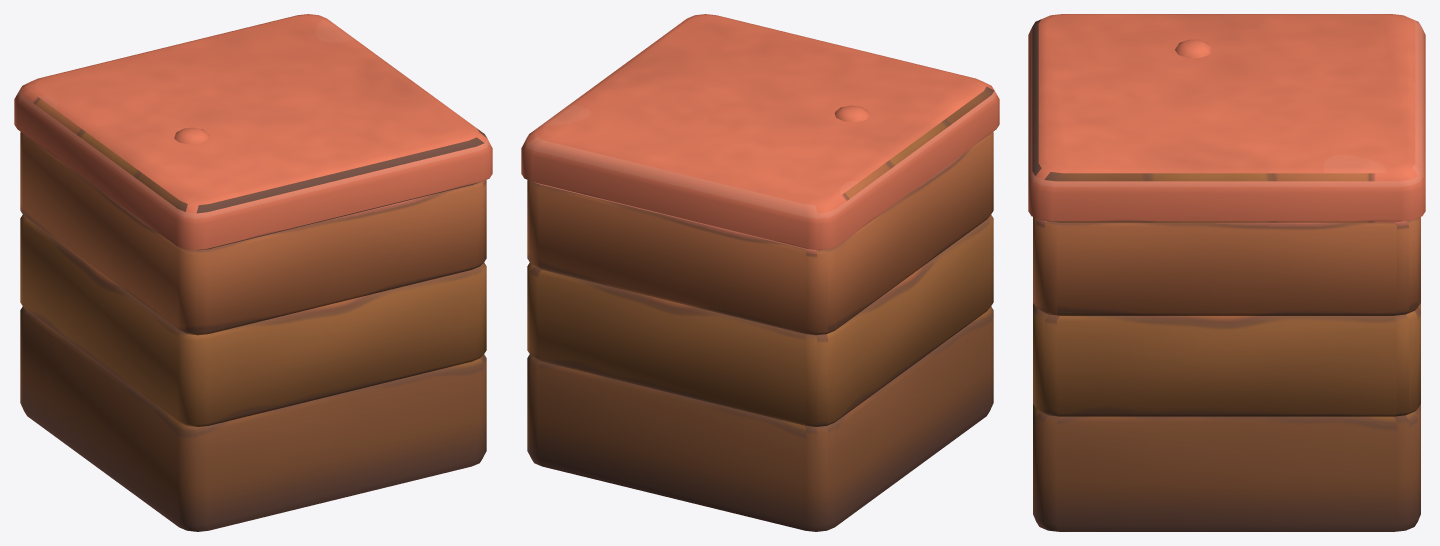
Rendered from cover_unit.glb.
3 views of the same model, side by side, from view 1: azimuth 30°, elevation 25°; view 2: azimuth 150°, elevation 25°; view 3: azimuth 270°, elevation 25° (orthographic). The views are drawn at different scales.
Visible parts, largest first — view 1: cover_unit; view 2: cover_unit; view 3: cover_unit.
Boxes of the visible parts, x1,y1,x2,y2 form: cover_unit: [14, 14, 492, 531]; cover_unit: [521, 14, 999, 531]; cover_unit: [1028, 14, 1425, 531].
Size of the model in its own units: 1 by 1.02 by 1.
2 materials, 2 textured.
